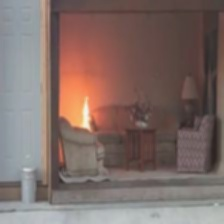fire: (78, 88, 93, 127)
